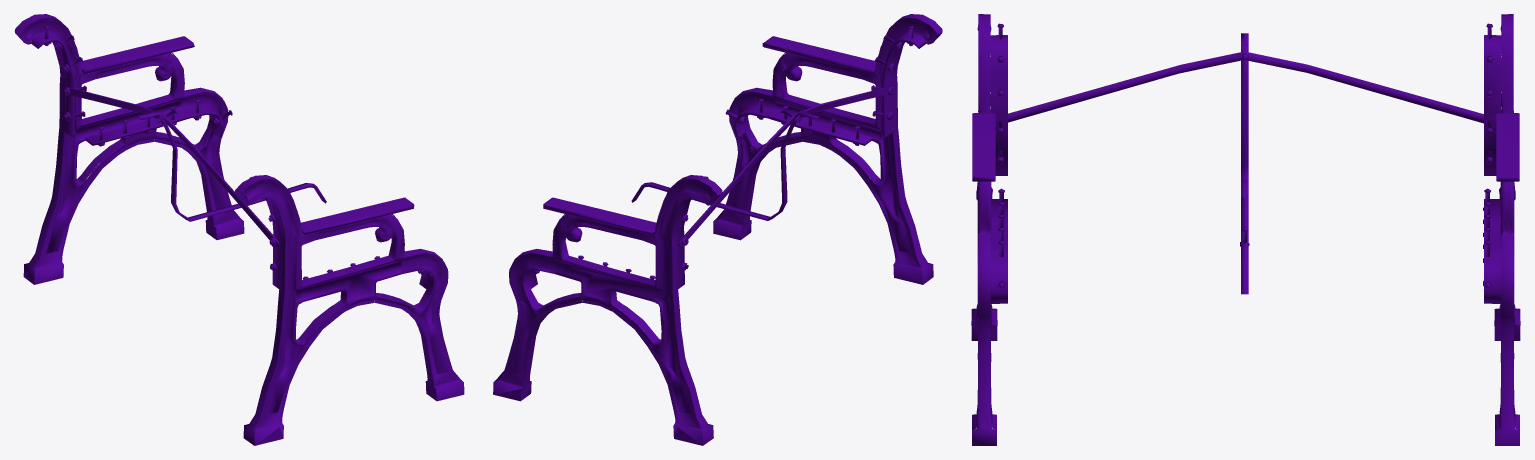
File: bench.obj
3 views of the same model, side by side, from view 1: azimuth 30°, elevation 25°; view 2: azimuth 150°, elevation 25°; view 3: azimuth 270°, elevation 25° (orthographic). The views are drawn at different scales.
Parts seen in each view (by area): view 1: Bench_Wood_Frame; view 2: Bench_Wood_Frame; view 3: Bench_Wood_Frame.
Part boxes in pixels (left/top/right/bottom): Bench_Wood_Frame: left=14, top=14, right=464, bottom=445; Bench_Wood_Frame: left=493, top=14, right=942, bottom=445; Bench_Wood_Frame: left=971, top=14, right=1520, bottom=445.
Size of the model in its own units: 1.39 by 1.57 by 2.5.
